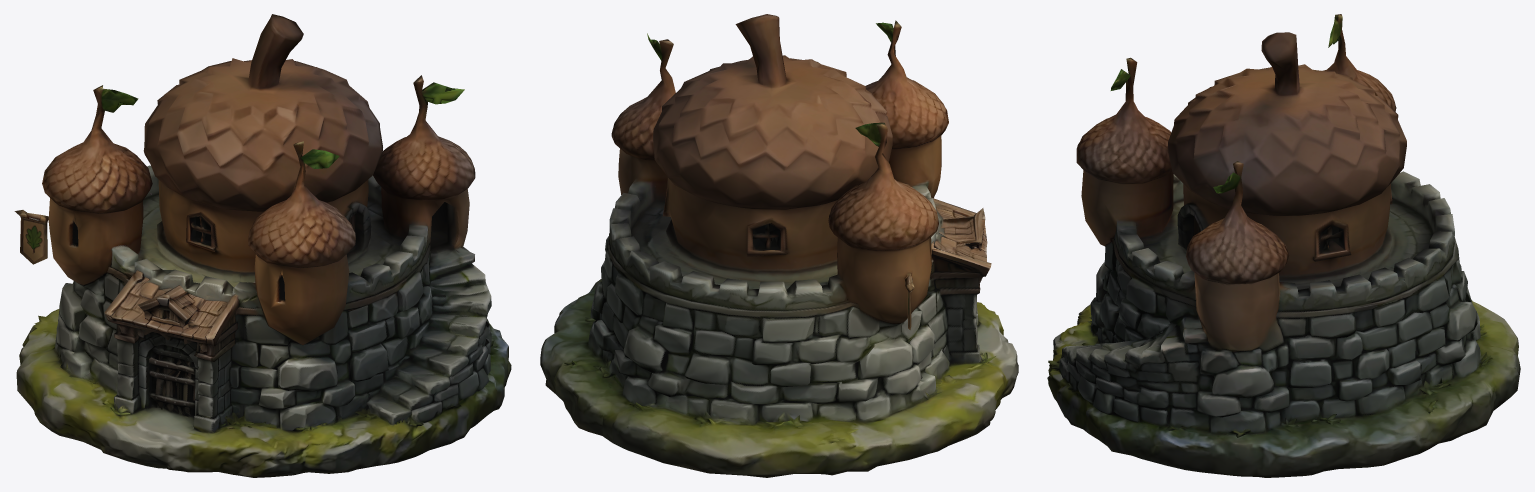
File: Castle.glb
3 views of the same model, side by side, from view 1: azimuth 30°, elevation 25°; view 2: azimuth 150°, elevation 25°; view 3: azimuth 270°, elevation 25° (orthographic).
Parts seen in each view (by area): view 1: tripo_node_0fa62e30-e4b2-4d73-bcbc-0be34ab8e443; view 2: tripo_node_0fa62e30-e4b2-4d73-bcbc-0be34ab8e443; view 3: tripo_node_0fa62e30-e4b2-4d73-bcbc-0be34ab8e443.
Part boxes in pixels (box(x1,y1,x2,y2)): tripo_node_0fa62e30-e4b2-4d73-bcbc-0be34ab8e443: box(14, 14, 511, 477); tripo_node_0fa62e30-e4b2-4d73-bcbc-0be34ab8e443: box(540, 14, 1018, 477); tripo_node_0fa62e30-e4b2-4d73-bcbc-0be34ab8e443: box(1047, 14, 1520, 477).
Bounding box in the file's own units: 0.9824 × 0.7996 × 0.9643.
Materials: 1 (1 with a texture image).
